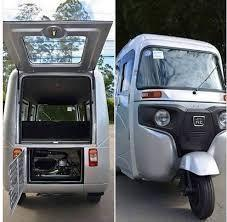keke: (115, 31, 224, 220)
